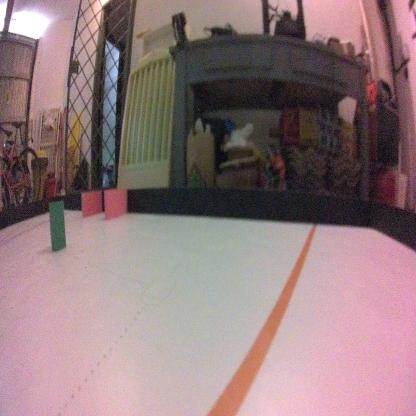green: (47, 197, 66, 251)
magenta: (103, 186, 129, 228), (81, 187, 102, 221)
